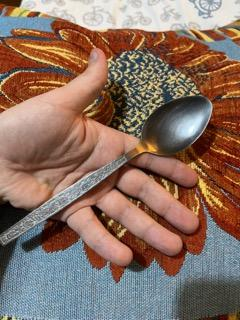spoon: (0, 93, 216, 249)
